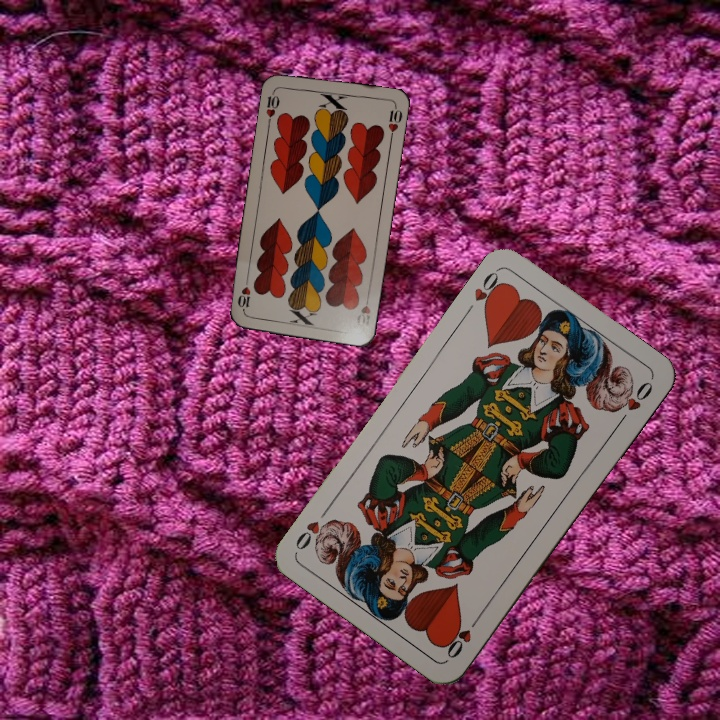H10: (352, 290, 373, 331), (262, 86, 282, 126)
HO: (441, 610, 483, 662), (470, 265, 508, 315)
